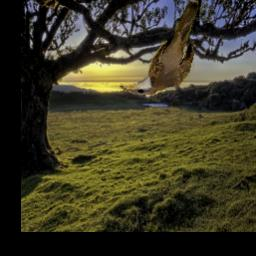Cuckoo: (120, 1, 199, 95)
